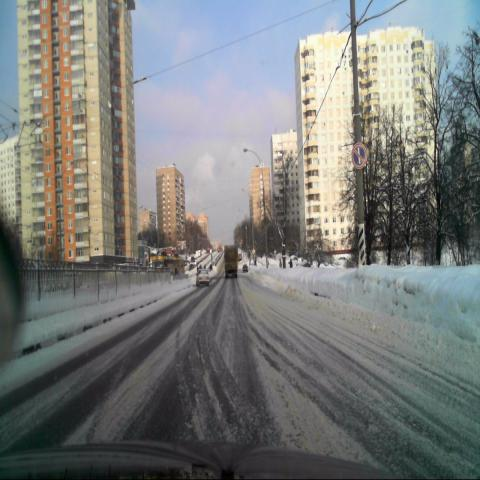3_29: (351, 141, 367, 170)
